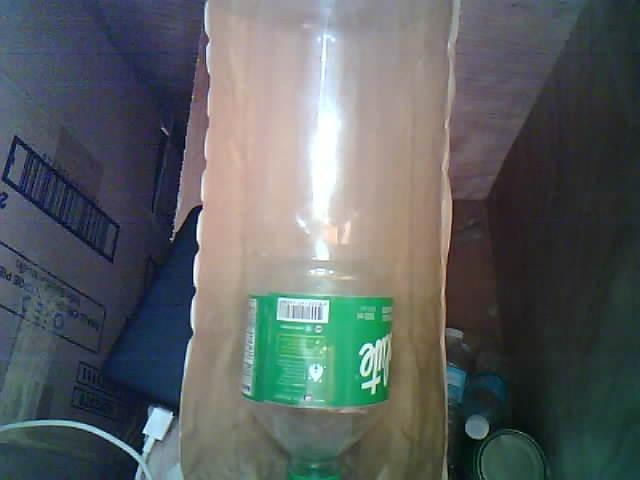large_bottle: (229, 0, 419, 480)
